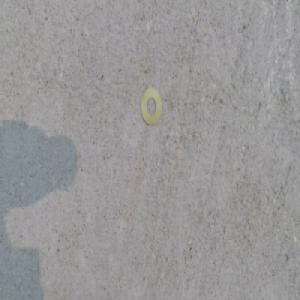Washer: (140, 90, 161, 129)
